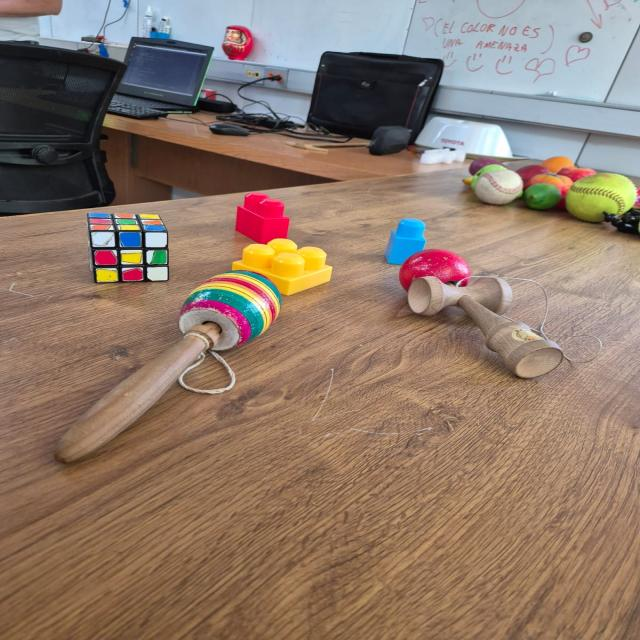balero: (56, 269, 294, 466)
balero ball: (396, 244, 573, 380)
lego 2: (235, 193, 290, 245)
lego 4: (232, 237, 333, 295)
lego_1: (385, 219, 427, 261)
rubick: (84, 212, 169, 284)
